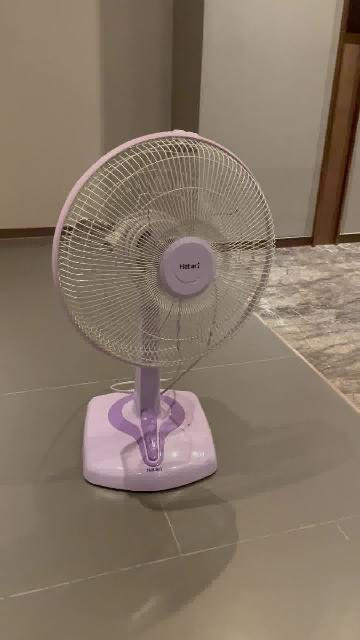Fan: (51, 130, 276, 495)
